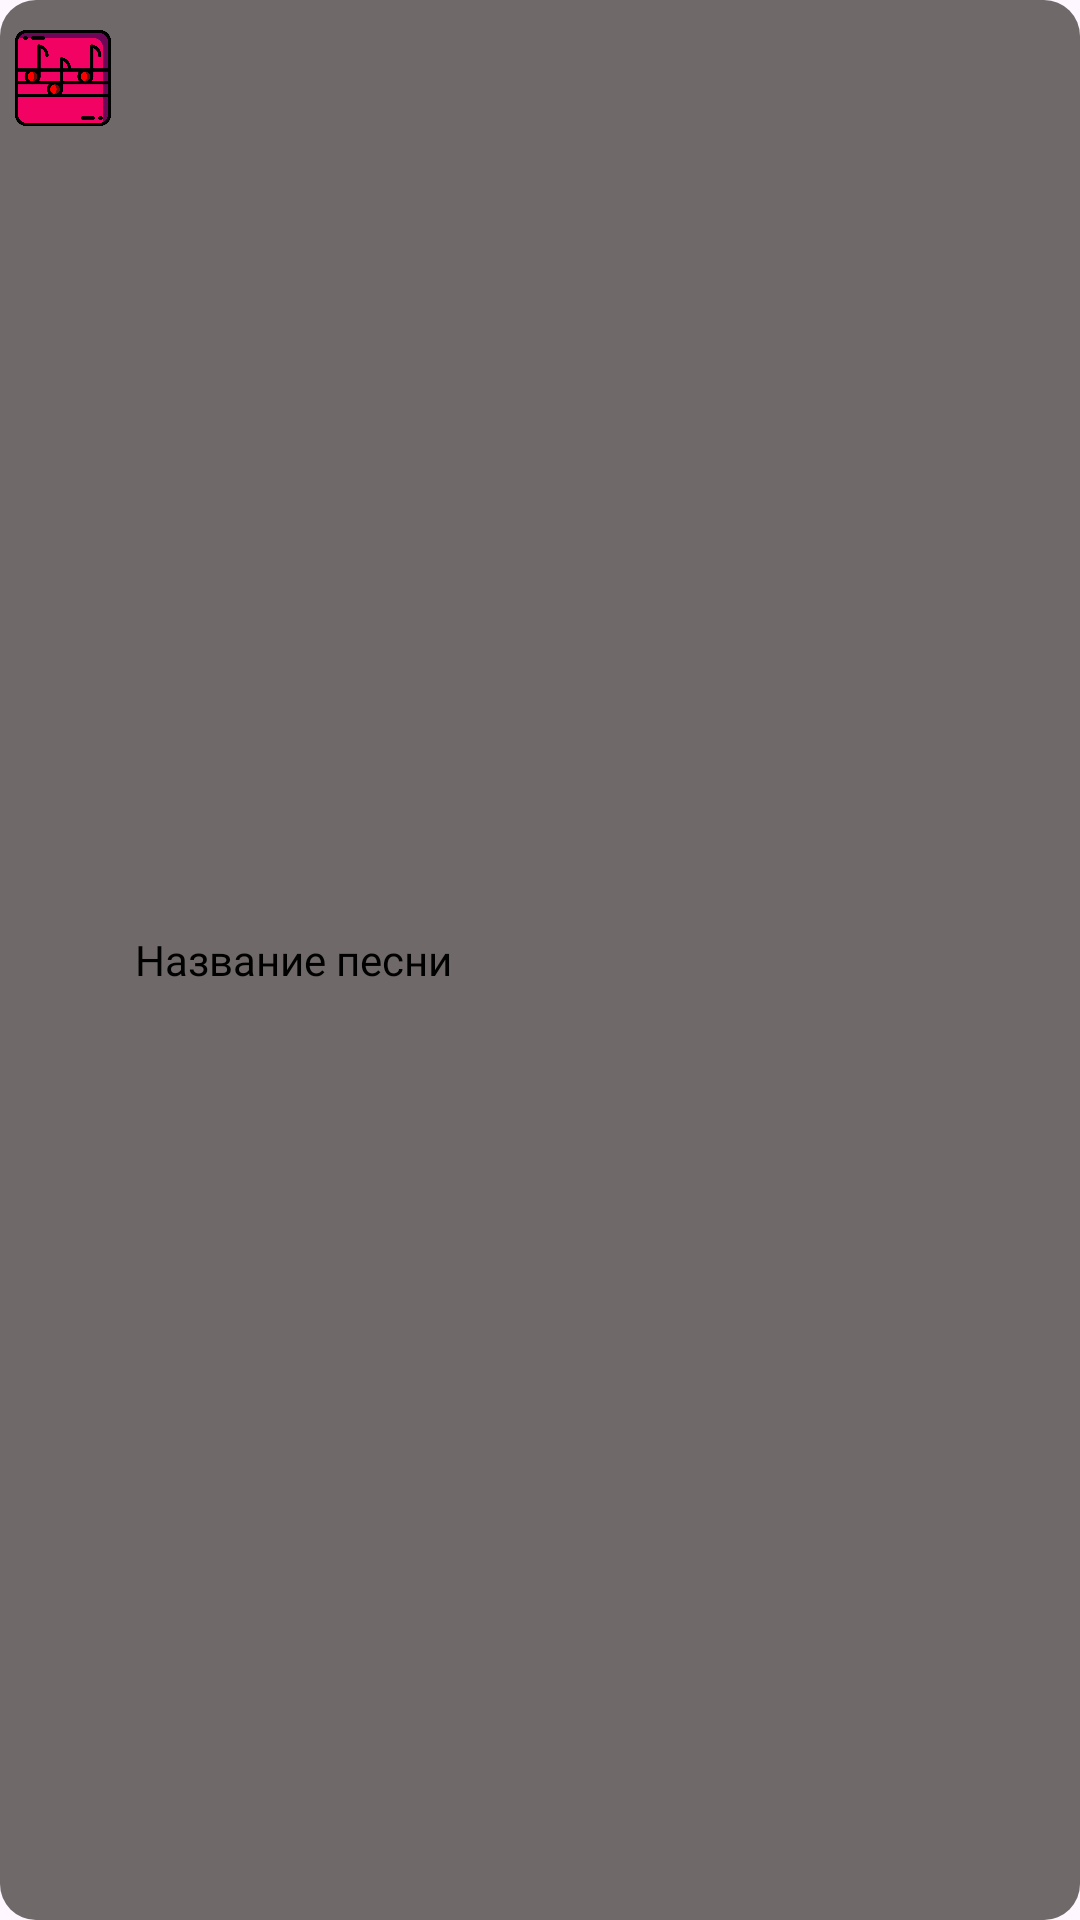

Icon bounding boxes for this 1080 × 1920 phone screenshot, format (left=x1, top=y1, right=x2, bottom=y2):
music: (left=15, top=30, right=111, bottom=126)
